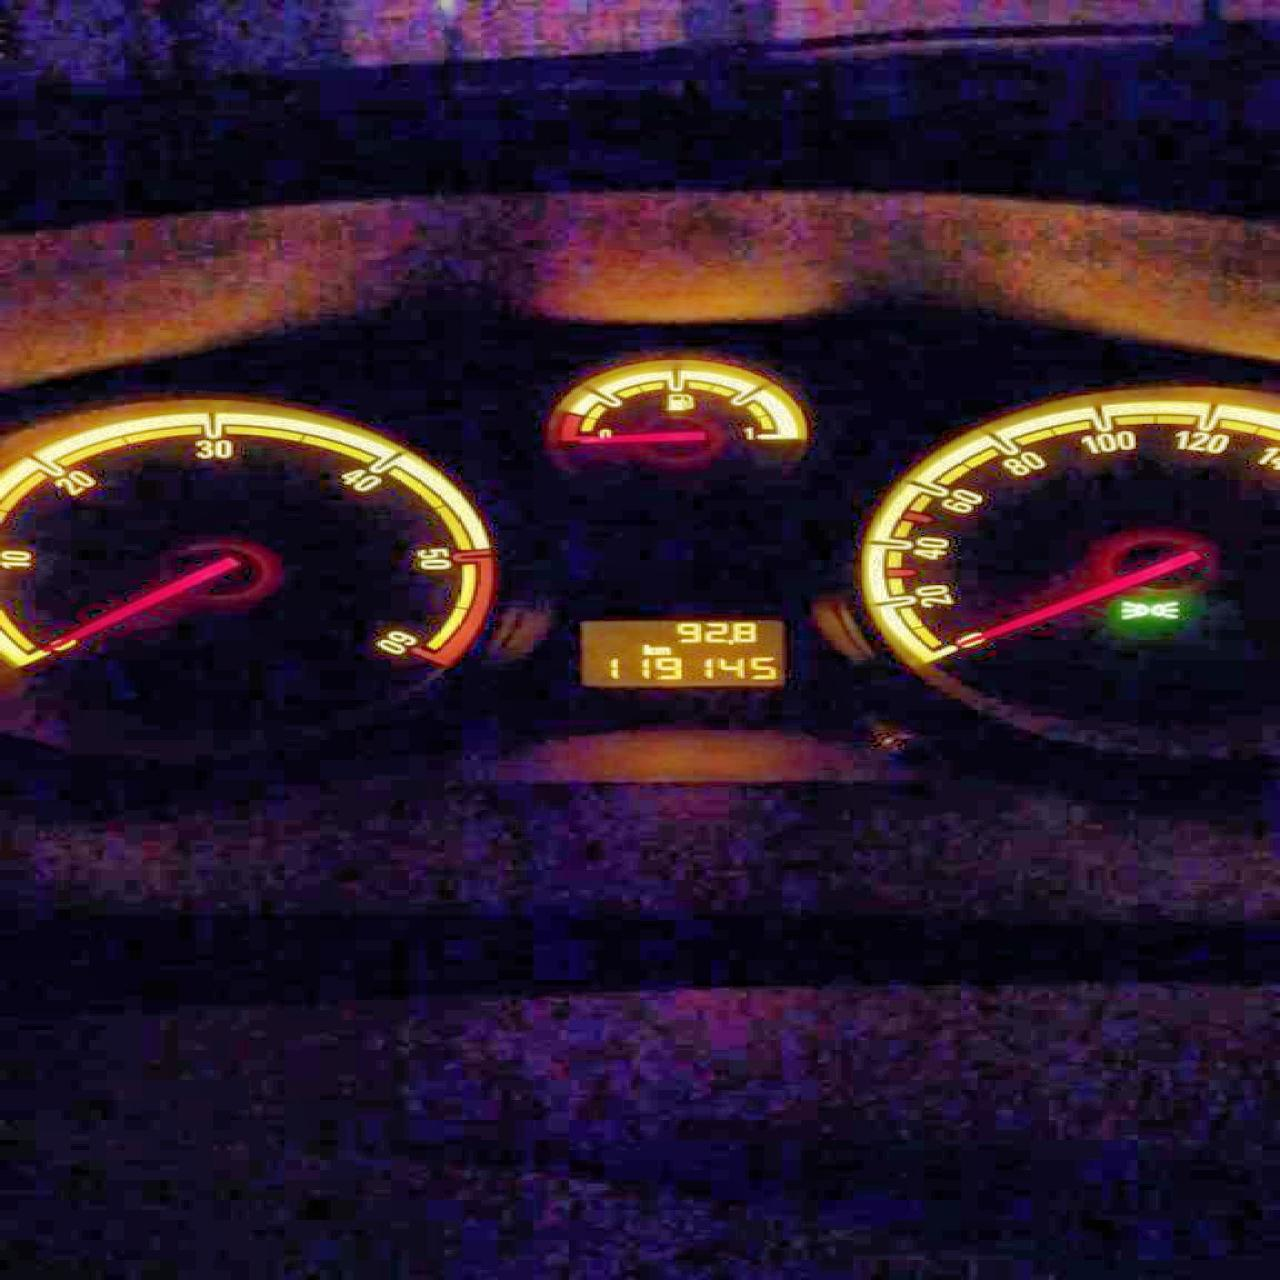-: (724, 638, 734, 645)
1: (605, 656, 620, 681), (635, 656, 648, 680), (700, 655, 713, 679)
2: (702, 621, 727, 642)
4: (716, 655, 742, 678)
5: (747, 655, 774, 679)
8: (731, 620, 757, 641)
9: (651, 655, 680, 679), (673, 620, 700, 642)
X: (640, 641, 653, 655), (653, 645, 670, 654)
odometer: (578, 618, 784, 688)
